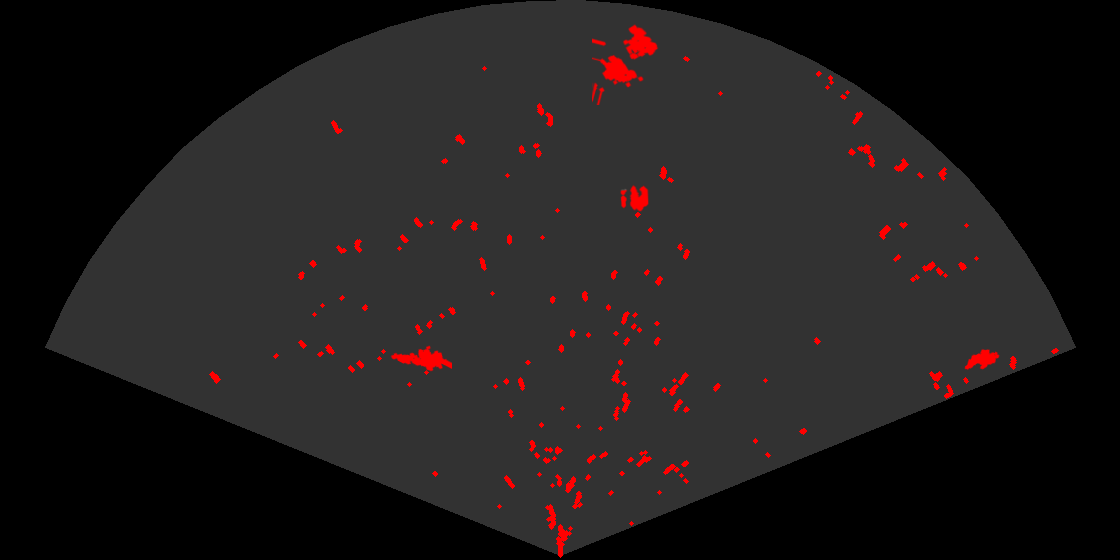AUV: (963, 347, 1001, 372)
ball: (619, 183, 650, 213)
cage: (592, 23, 660, 105)
frogman: (389, 344, 452, 373)
